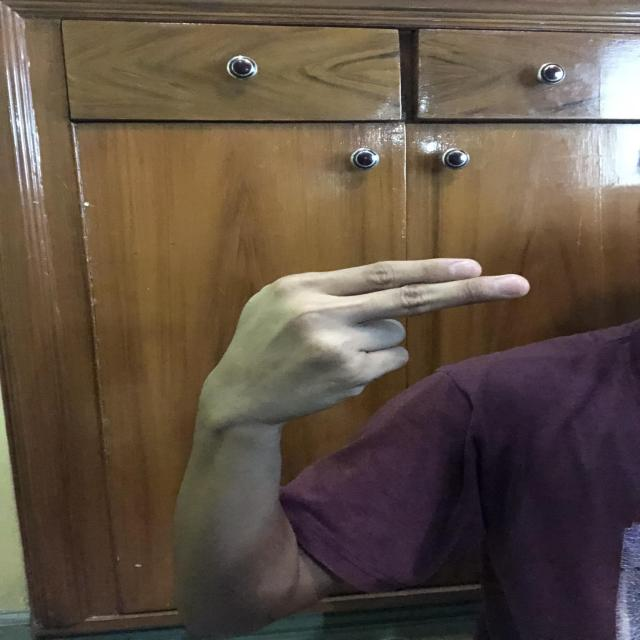H: (198, 256, 532, 426)
